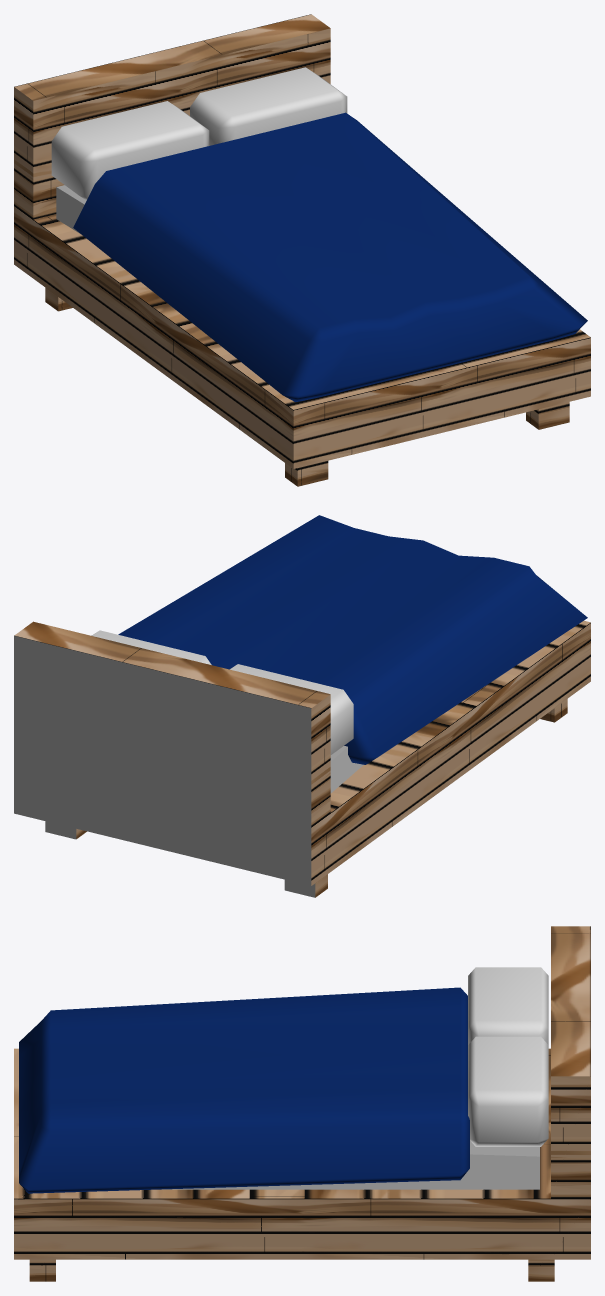
Rendered from bed.fbx.
3 views of the same model, one above another, from view 1: azimuth 30°, elevation 25°; view 2: azimuth 150°, elevation 25°; view 3: azimuth 270°, elevation 25° (orthographic). The views are drawn at different scales.
Parts seen in each view (by area): view 1: polySurface10; view 2: polySurface10; view 3: polySurface10.
Boxes of the visible parts, bbox=[...] form: polySurface10: bbox=[14, 14, 590, 486]; polySurface10: bbox=[14, 515, 590, 897]; polySurface10: bbox=[14, 926, 590, 1281].
Size of the model in its own units: 2.04 by 1.31 by 3.24.
